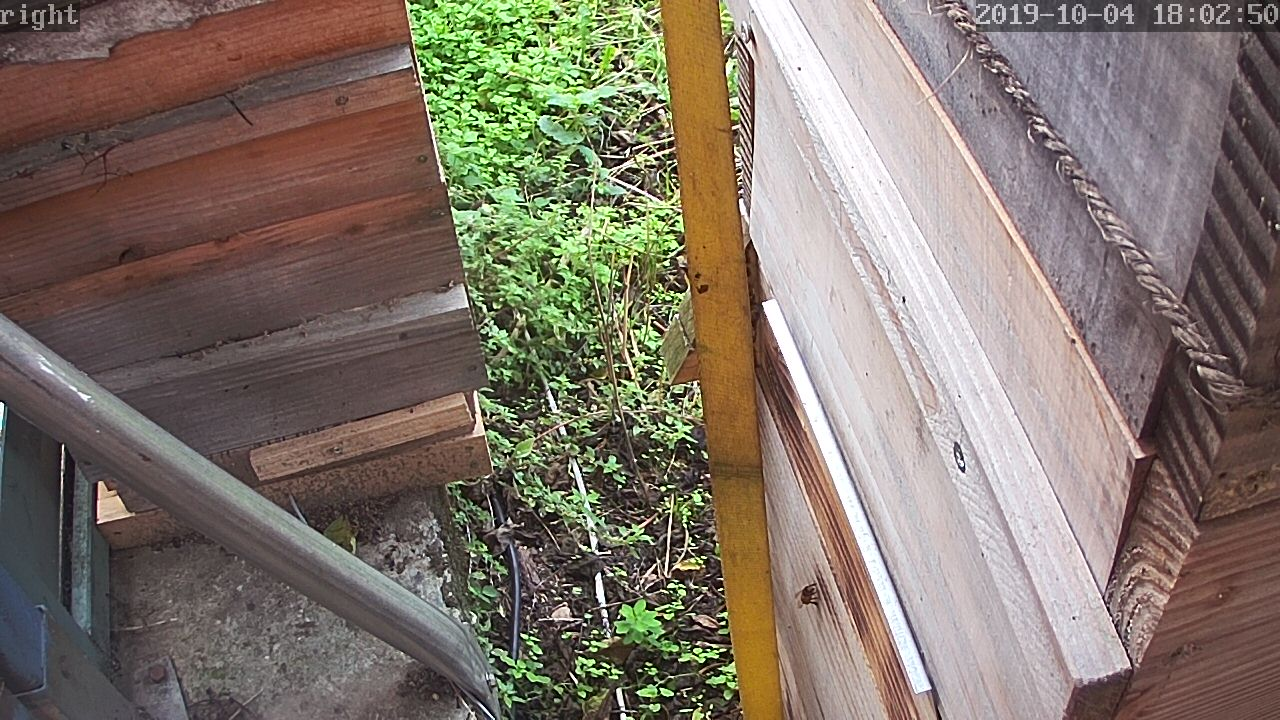bee: (782, 578, 824, 615)
